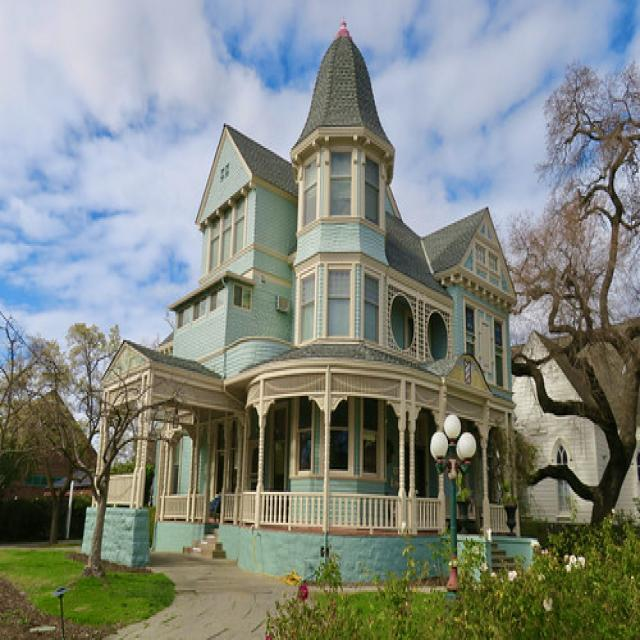Normal_building: (75, 23, 529, 596)
